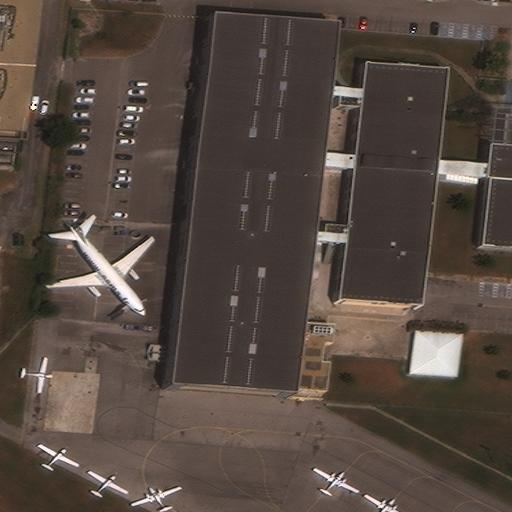Medium Civil Transport: (46, 224, 155, 316)
Small Civil Transport: (18, 356, 53, 394), (130, 485, 178, 511), (313, 467, 359, 494), (37, 442, 79, 469), (90, 469, 128, 496), (364, 492, 404, 511)
